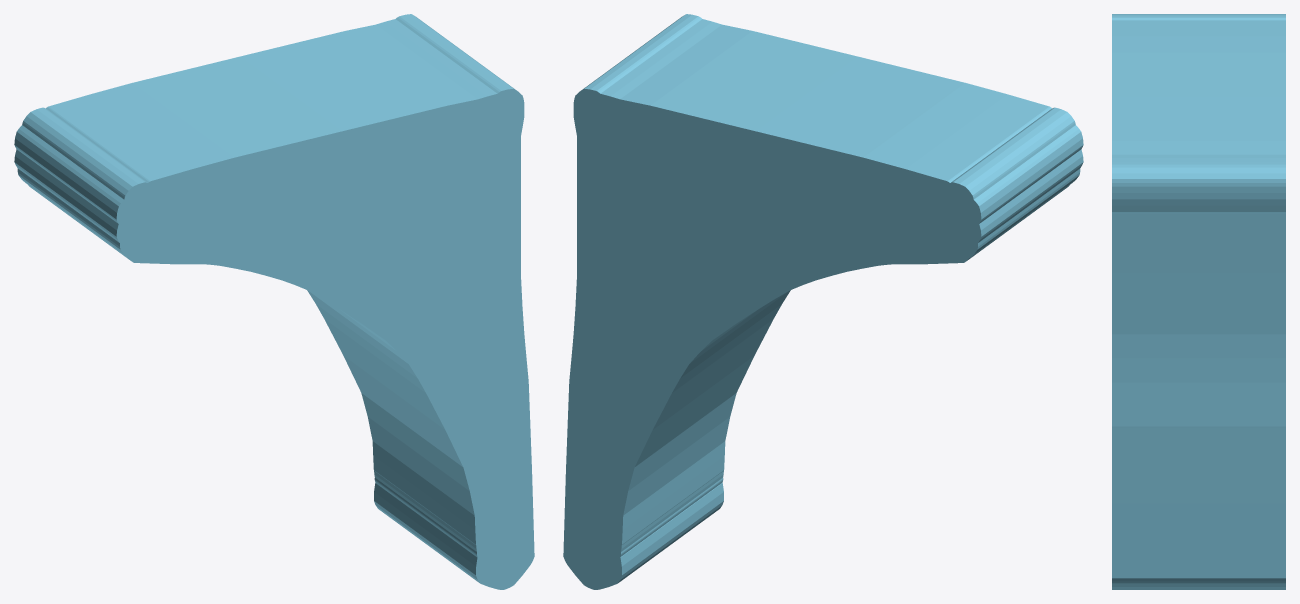
File: tinker.obj
3 renders of one model, left to right at view 1: azimuth 30°, elevation 25°; view 2: azimuth 150°, elevation 25°; view 3: azimuth 270°, elevation 25°, orthographic. The views are drawn at different scales.
Visible parts, largest first — view 1: obj_0; view 2: obj_0; view 3: obj_0.
Part boxes in pixels (<box>): obj_0: <box>14,14,534,589</box>; obj_0: <box>563,14,1083,589</box>; obj_0: <box>1112,14,1285,589</box>.
Size of the model in its own units: 23.62 by 26.97 by 10.
